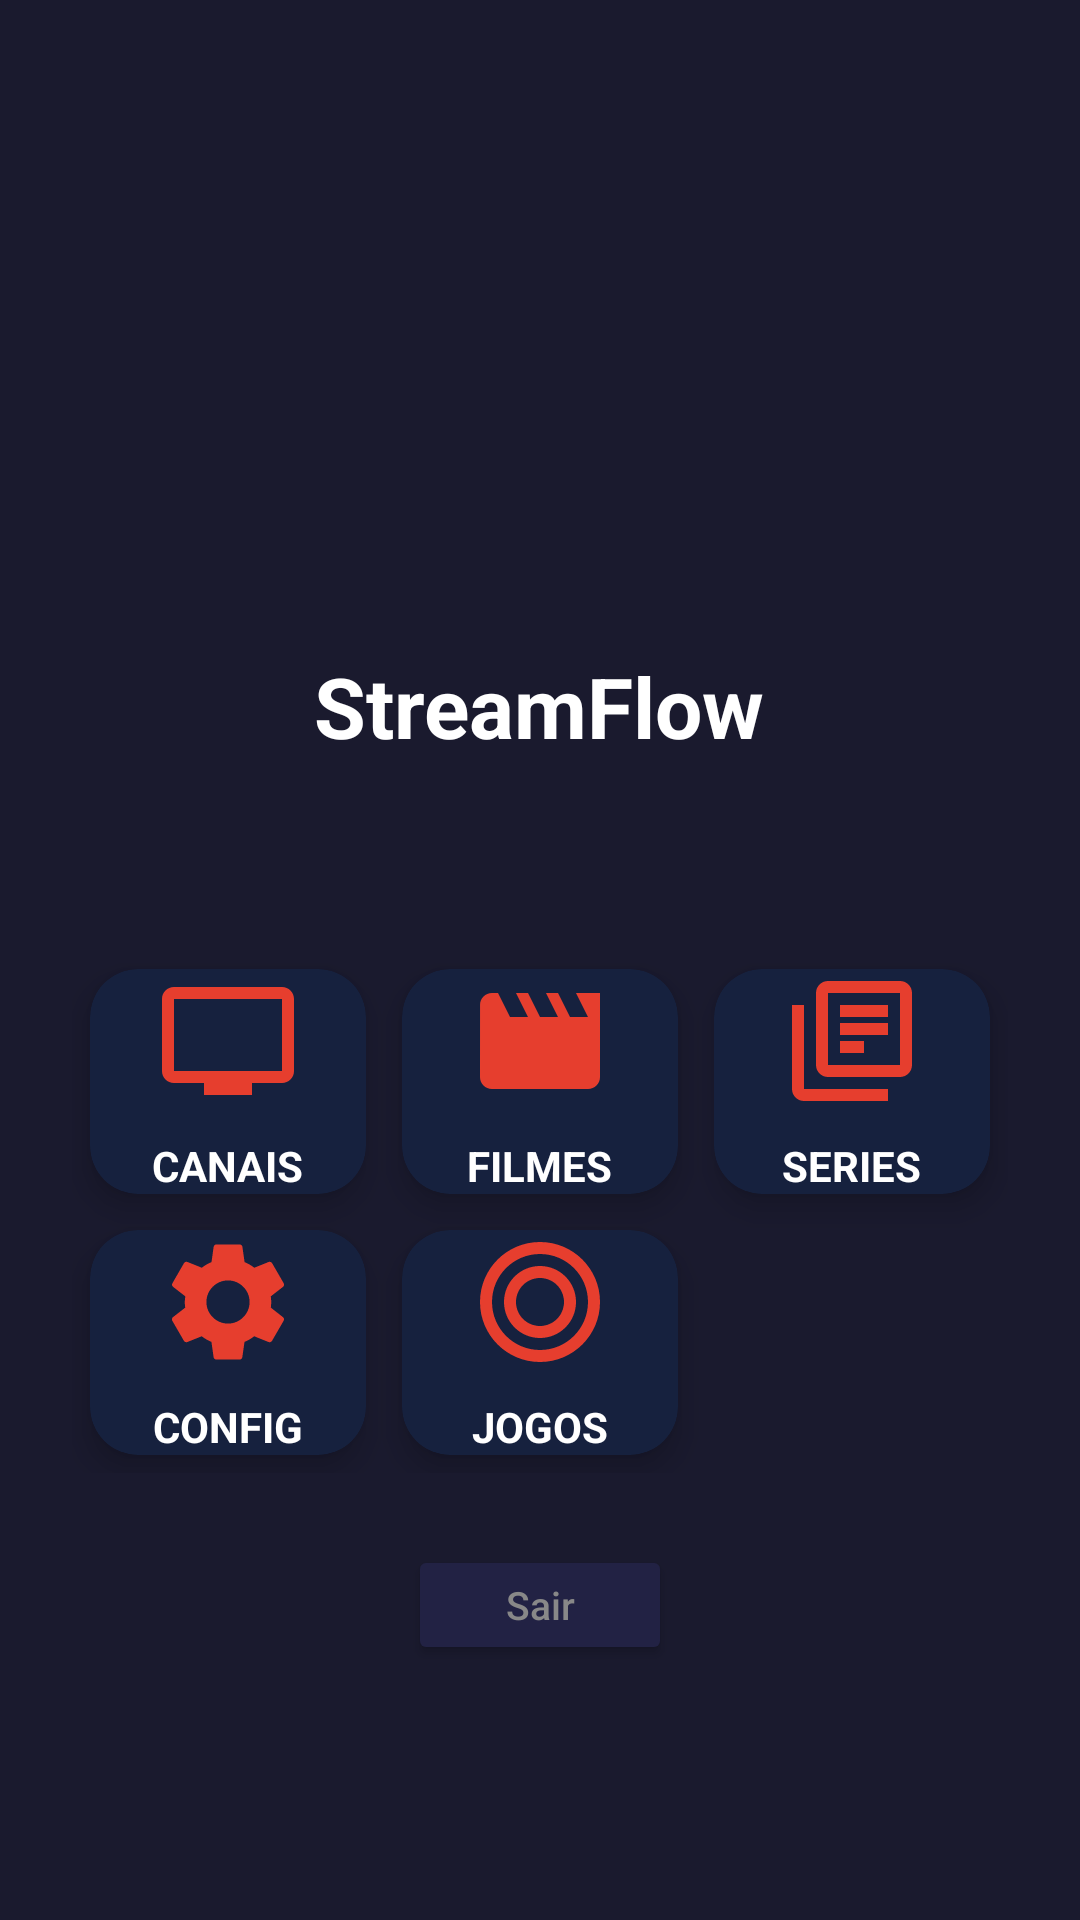

Screen size 1080 x 1920. Icon name, then its box in pixels as (x1, y1, x2, y2):
movie: (480, 993, 600, 1089)
settings: (172, 1244, 284, 1360)
